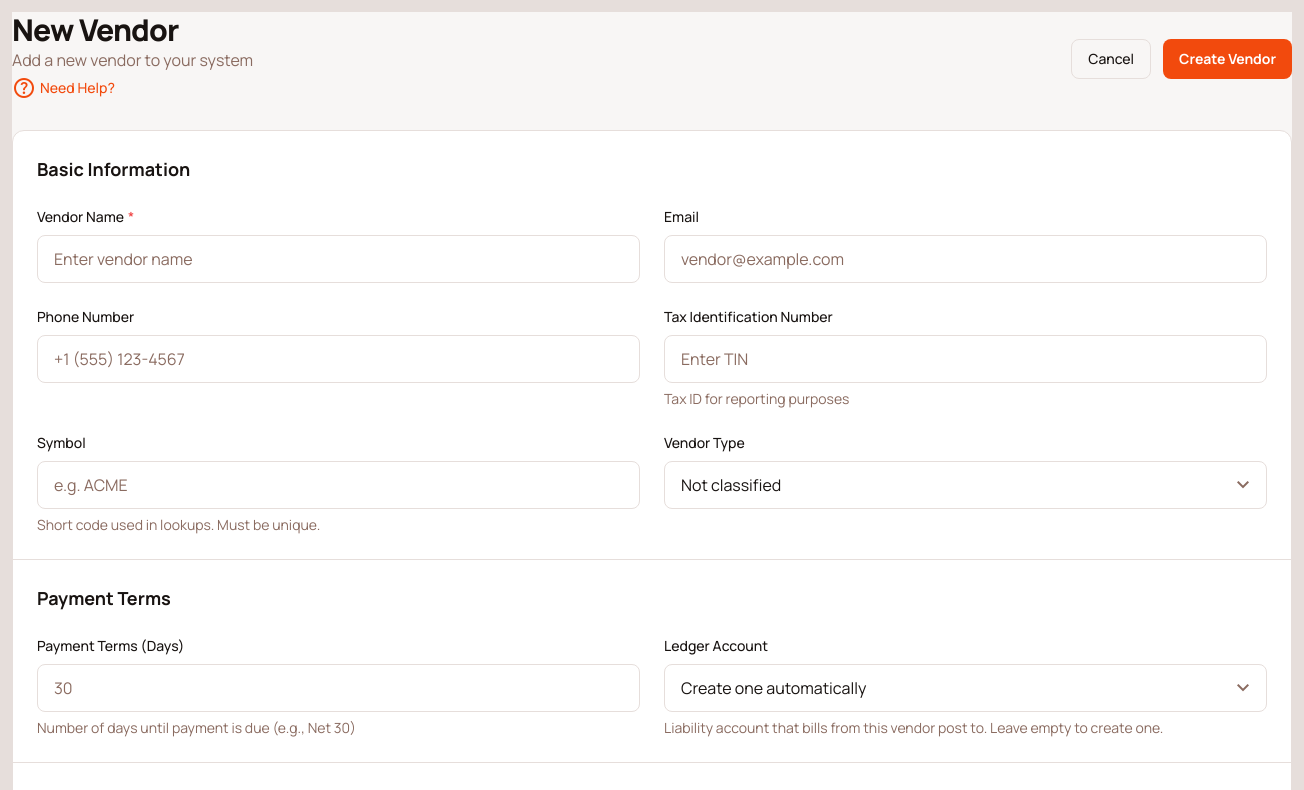
Test case: VendorFormPage domain fields (SOUPFIN-182) › validation › blocks saving with payment terms over 365 days
Type "Acme" into the field with test id "vendor-form-name". click: (338, 259)
box: [37, 235, 640, 283]
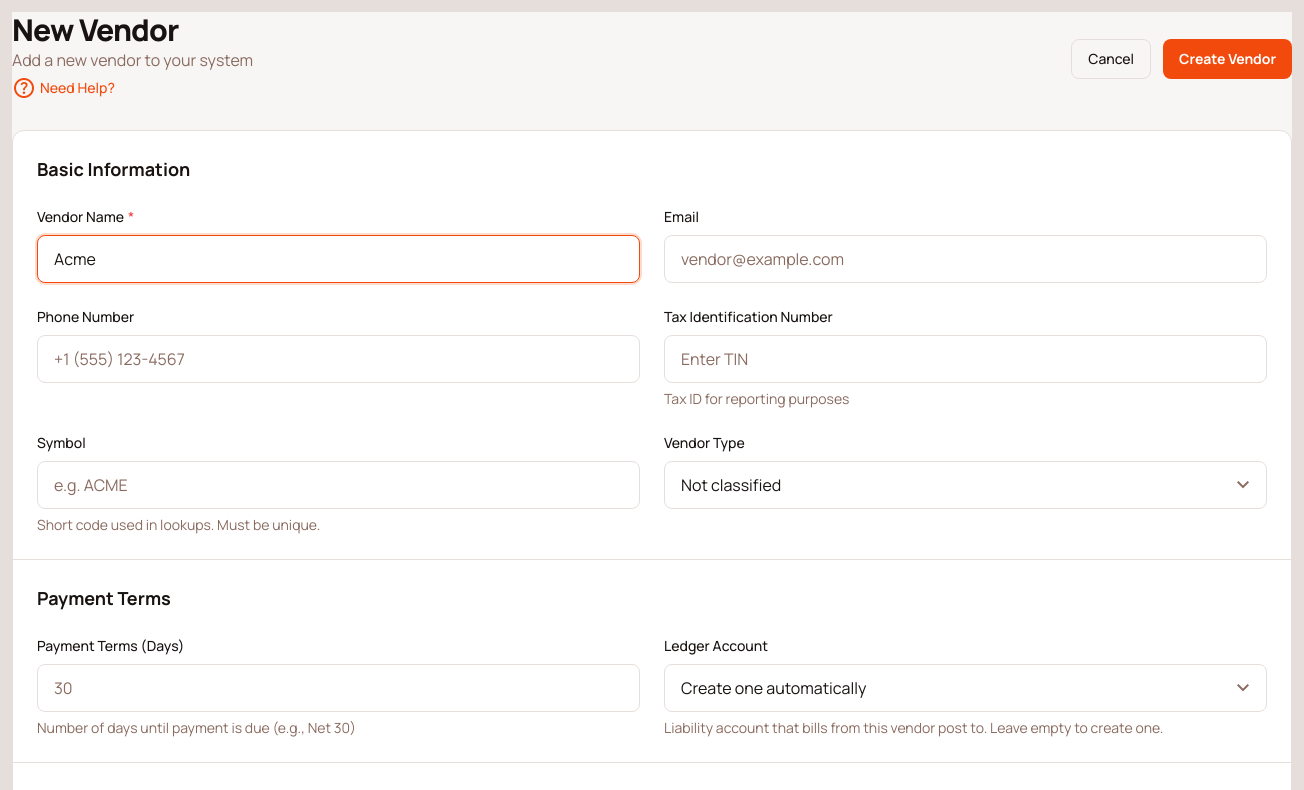
Click the number field with test id "vendor-form-payment-terms". click: click(338, 688)
box: [37, 664, 640, 712]
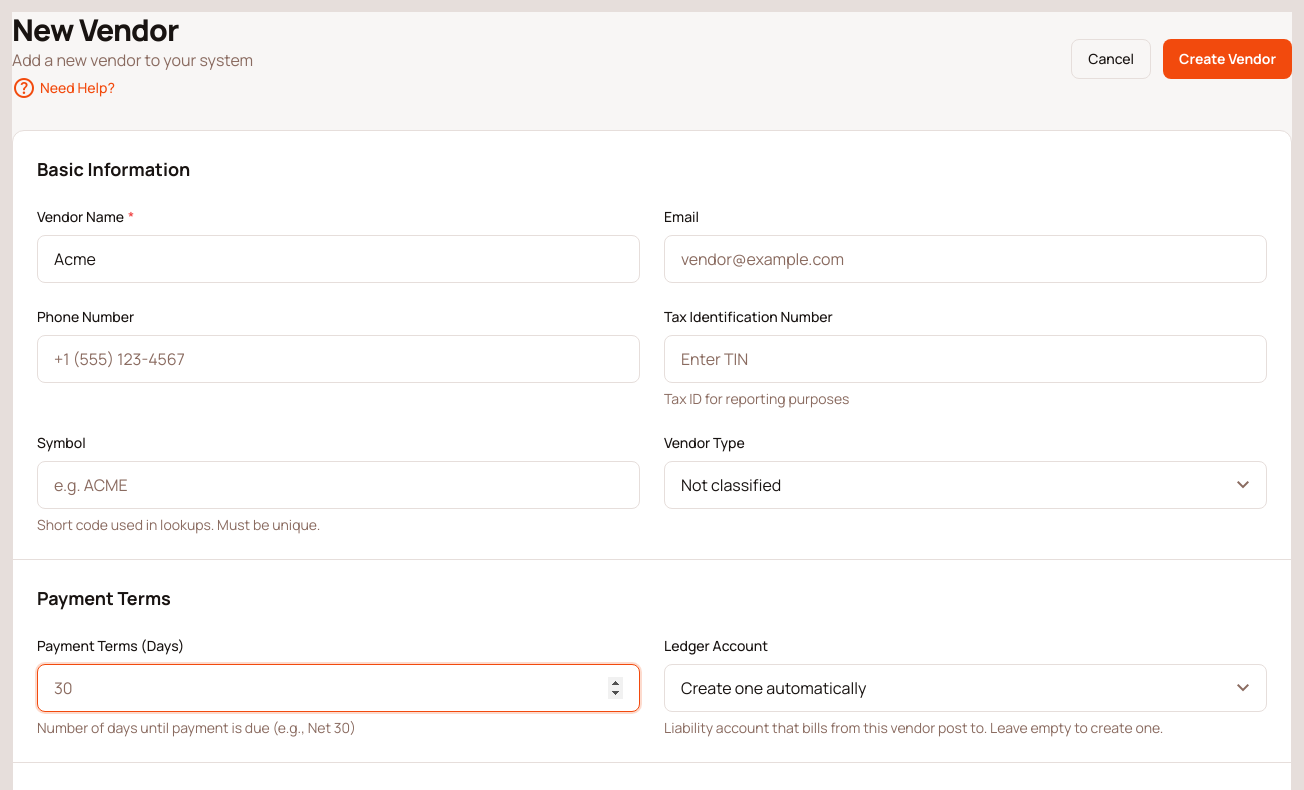
Type keys "366"
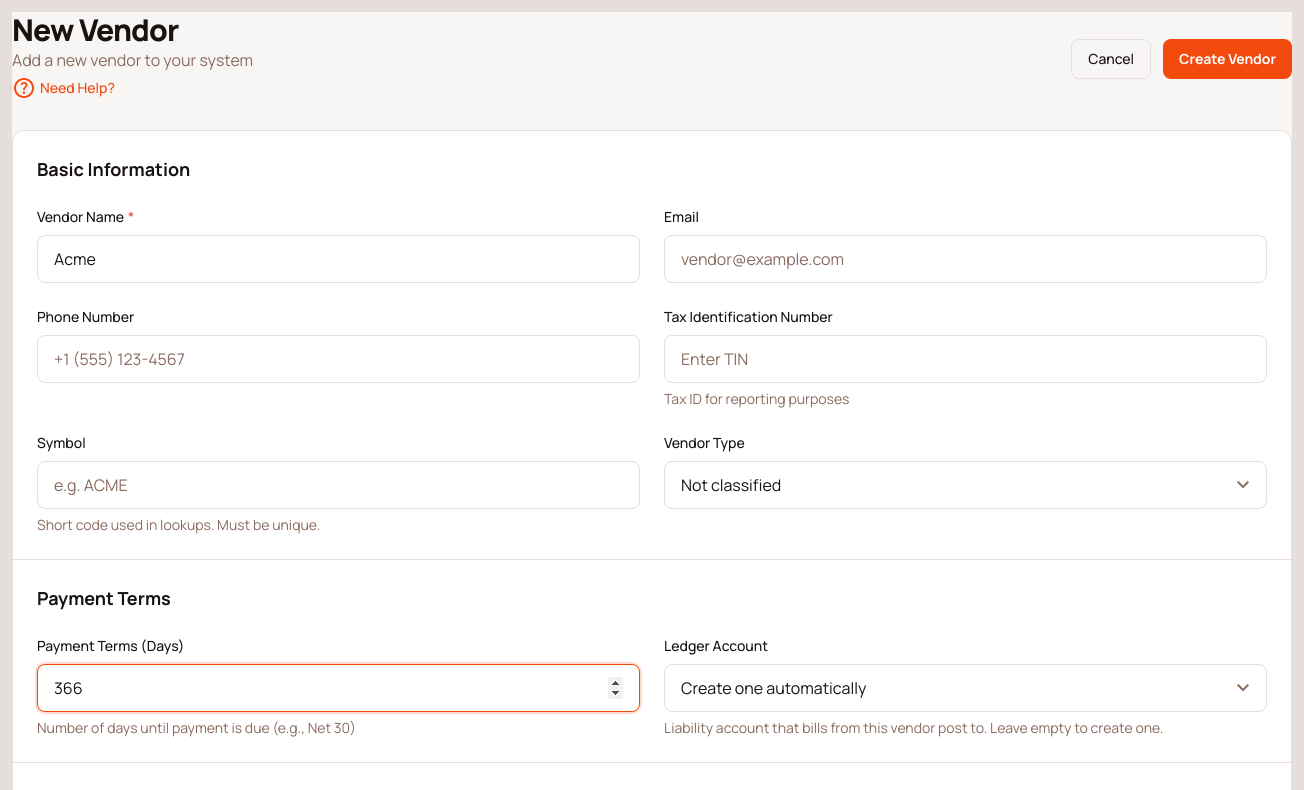
Click the button with test id "vendor-form-save". click: click(1228, 59)
box: [1163, 39, 1292, 79]
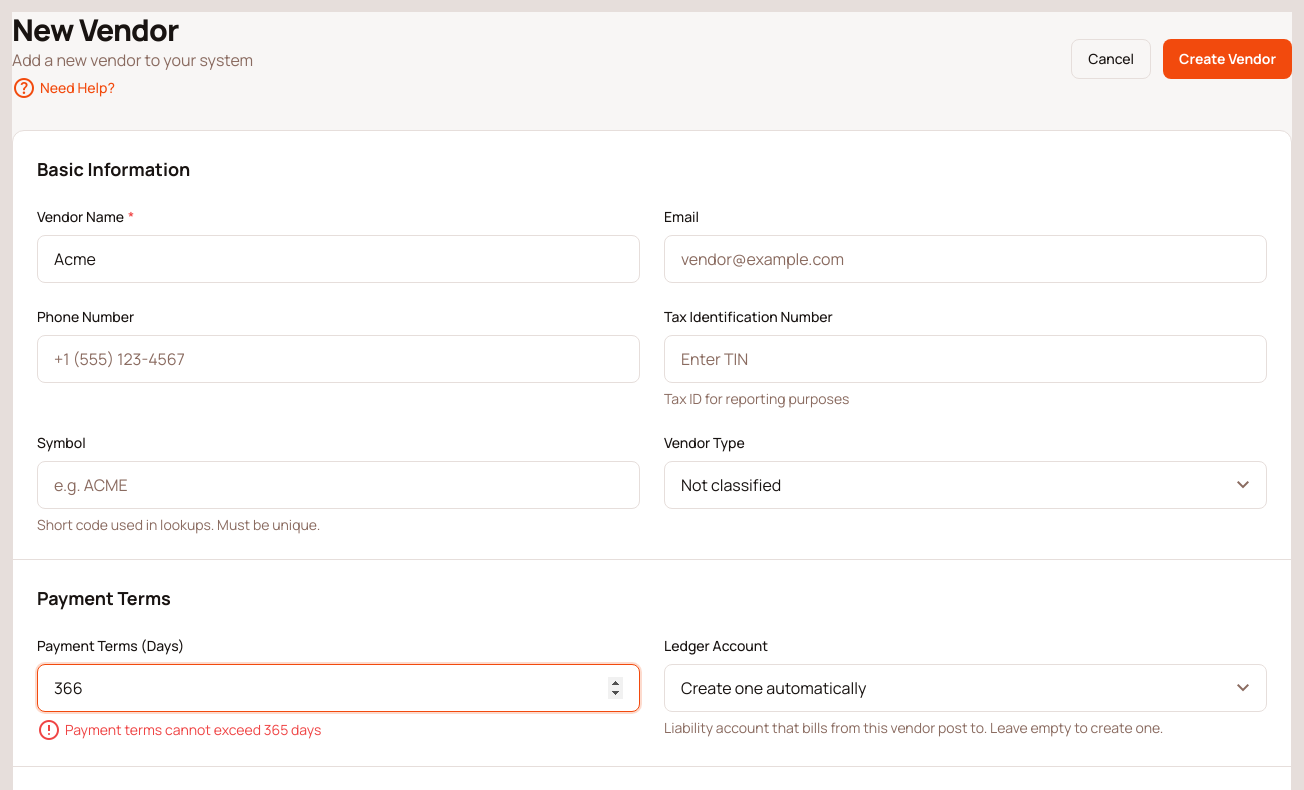
Now the text "Payment terms cannot exceed 365 days" is shown, box [37, 716, 321, 744]
